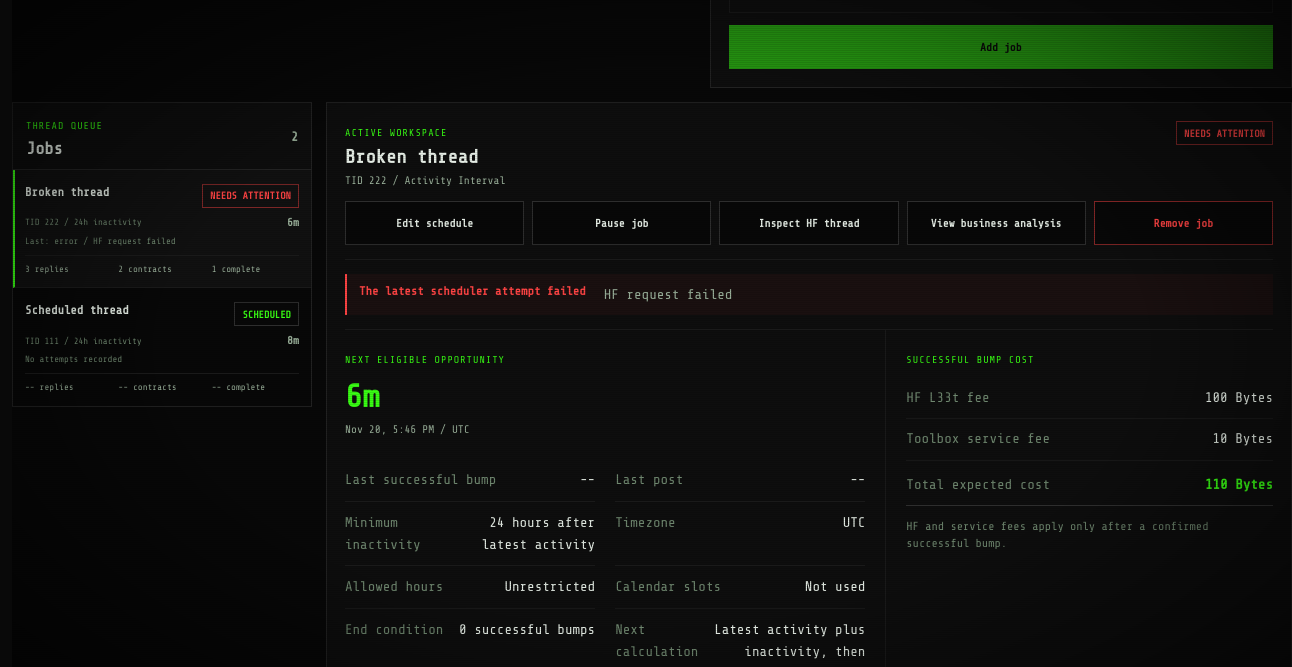
Test: Bump Service page interactions › switches the detail workspace and requests stats for that thread
(page scrolled)
expect the heading "Broken thread" is shown: met, box [345,146,478,168]
Click the button "Scheduled thread".
click(77, 310)  # box [13,288,311,406]
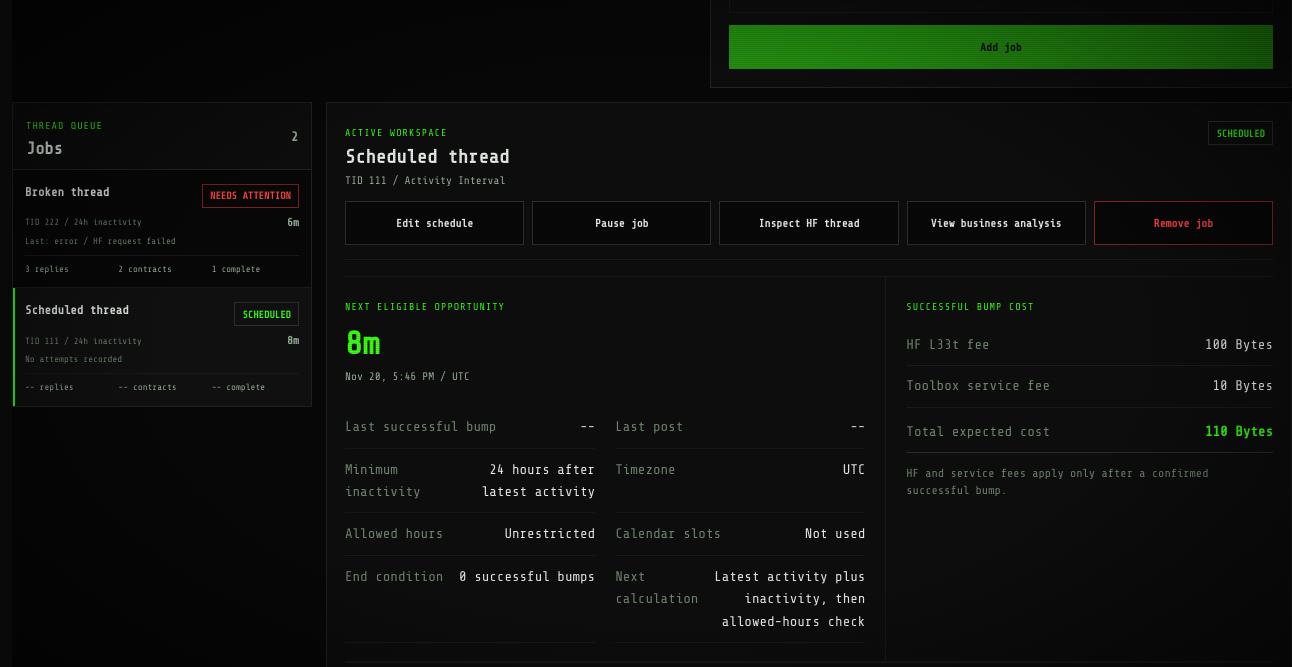
expect the heading "Scheduled thread" is shown: met, box [345,146,509,168]
